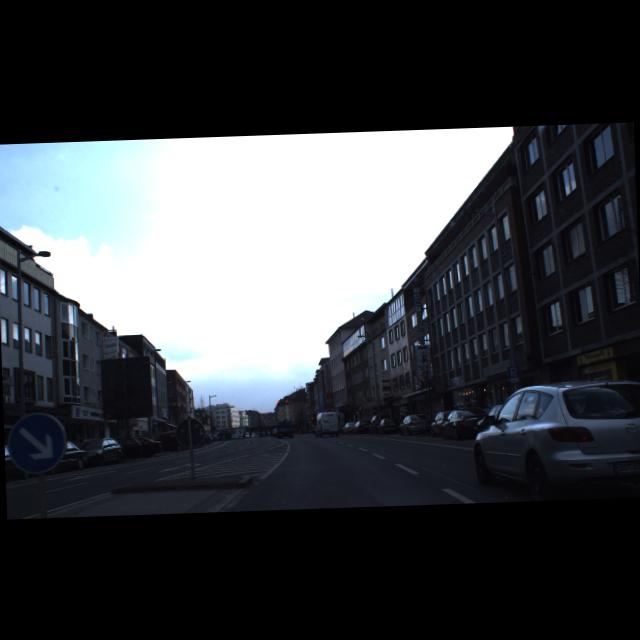mandatory: (6, 411, 66, 473)
